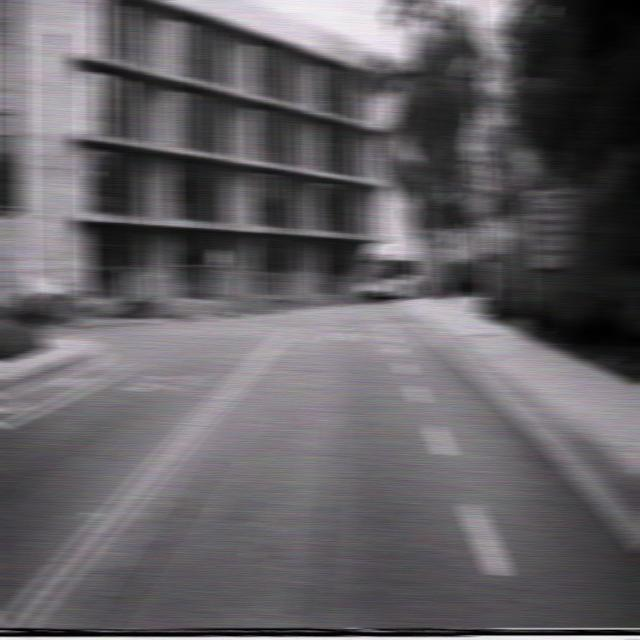stop_sign: (467, 184, 494, 226)
